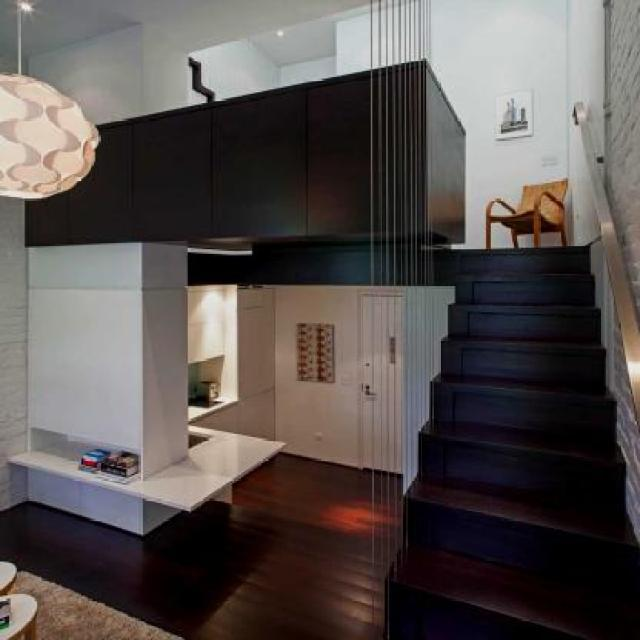stair: (370, 201, 635, 640)
